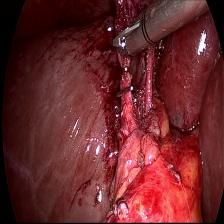Clipper: (106, 6, 157, 60)
